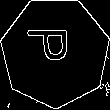P_E: (30, 33, 80, 72)
